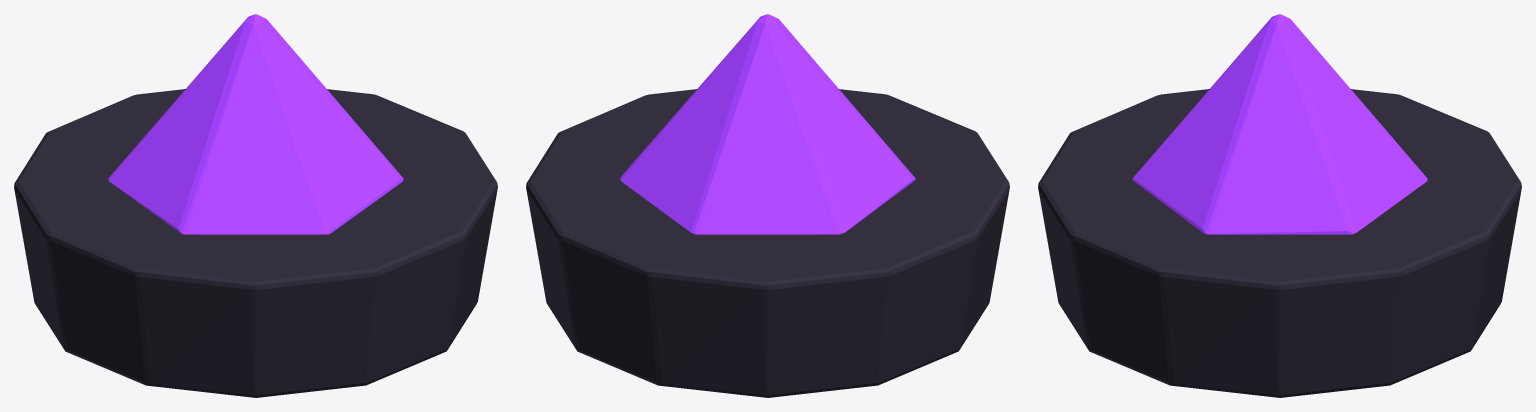
File: ward_crystal.glb
3 views of the same model, side by side, from view 1: azimuth 30°, elevation 25°; view 2: azimuth 150°, elevation 25°; view 3: azimuth 270°, elevation 25° (orthographic).
Visible parts, largest first — view 1: ward_crystal_part_0, ward_crystal_part_1; view 2: ward_crystal_part_0, ward_crystal_part_1; view 3: ward_crystal_part_0, ward_crystal_part_1.
Part boxes in pixels (x1=…): ward_crystal_part_0: x1=14, y1=89, x2=497, y2=397; ward_crystal_part_1: x1=108, y1=14, x2=403, y2=234; ward_crystal_part_0: x1=526, y1=89, x2=1009, y2=397; ward_crystal_part_1: x1=620, y1=14, x2=915, y2=234; ward_crystal_part_0: x1=1038, y1=89, x2=1521, y2=397; ward_crystal_part_1: x1=1132, y1=14, x2=1427, y2=234.
Bounding box in the file's own units: 3.49 × 2.67 × 3.49.
